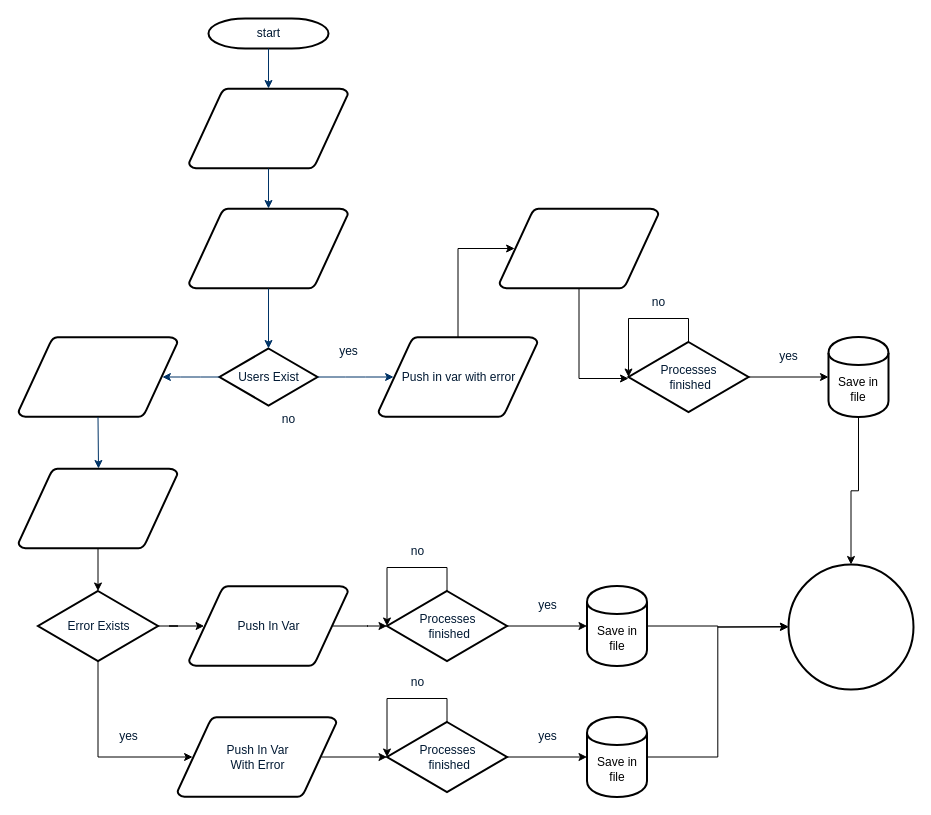
Image size: 931x815. Some labels were removed from this diagram. Each missing label, with the centre of its shape:
"Check if Processes are all Finished" belongs at point (578, 248).
"Check if Users Exist" belongs at point (268, 248).
"Check if WordPress Exist" belongs at point (97, 508).
"Load Data From CSV" belongs at point (268, 128).
"Save To WordPress" belongs at point (97, 377).
"Wait For Next Process" belongs at point (850, 626).
